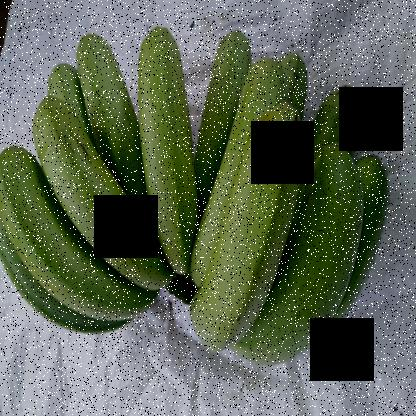unripe: (173, 108, 305, 390), (12, 85, 167, 288), (0, 137, 128, 323), (255, 152, 366, 365), (124, 13, 198, 281), (198, 55, 289, 233), (330, 158, 404, 288), (74, 20, 132, 172), (189, 22, 254, 155), (312, 56, 383, 147), (273, 31, 316, 129)
